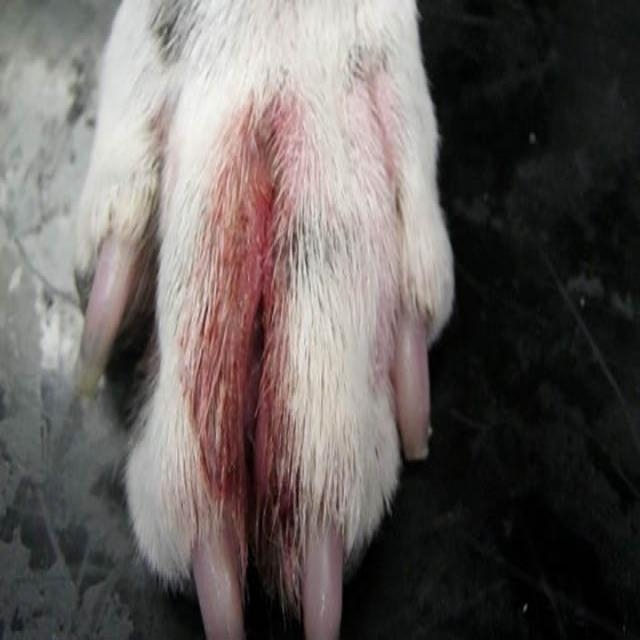allergic dermatitis: (200, 100, 306, 568), (341, 55, 418, 379)
